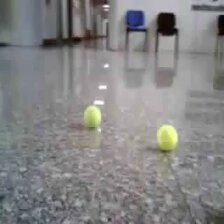tennis: (157, 123, 177, 150), (84, 104, 101, 126)
